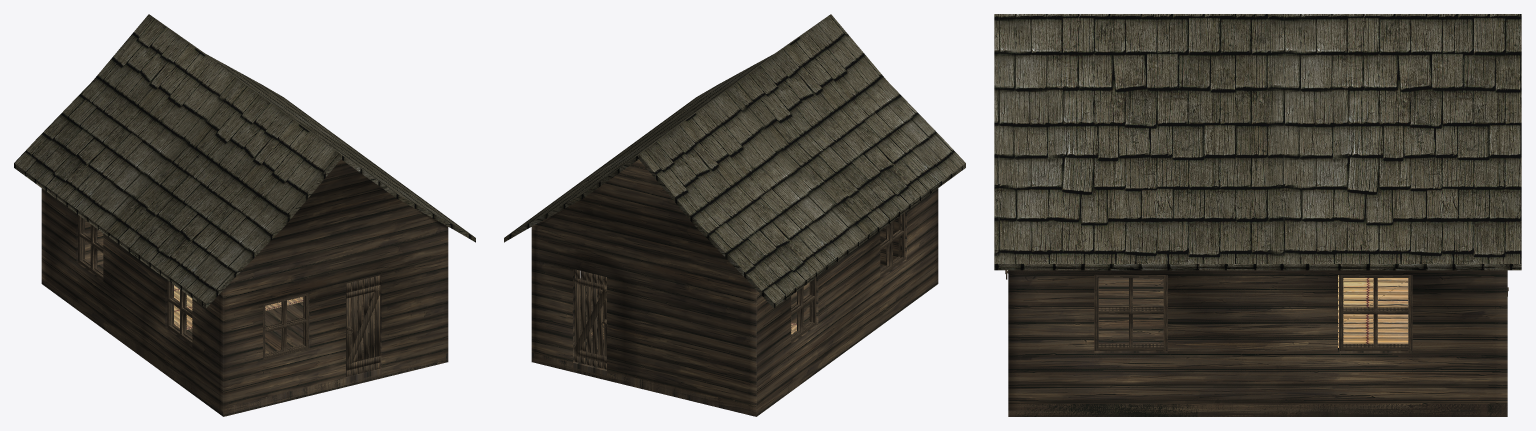
Rendered from MedievalHouse.gltf.
The picture shows the model from 3 angles, left to right: view 1: azimuth 30°, elevation 25°; view 2: azimuth 150°, elevation 25°; view 3: azimuth 270°, elevation 25°; orthographic projection. The views are drawn at different scales.
Visible parts, largest first — view 1: MedievalHouse1, Floor, Doors, Windows, Mat; view 2: MedievalHouse1, Doors, Floor, Windows; view 3: MedievalHouse1, Floor, Windows, Mat.
Boxes of the visible parts, x1,y1,x2,y2 form: MedievalHouse1: [14, 14, 475, 416]; Floor: [42, 264, 448, 416]; Doors: [346, 275, 380, 376]; Windows: [78, 215, 308, 359]; Mat: [174, 285, 303, 329]; MedievalHouse1: [504, 14, 965, 416]; Doors: [574, 269, 607, 369]; Floor: [531, 264, 937, 416]; Windows: [586, 212, 905, 342]; MedievalHouse1: [994, 14, 1521, 416]; Floor: [1008, 278, 1507, 416]; Windows: [1094, 275, 1412, 351]; Mat: [1338, 275, 1408, 347].
Bounding box in the file's own units: 6 × 5.07 × 7.4.
